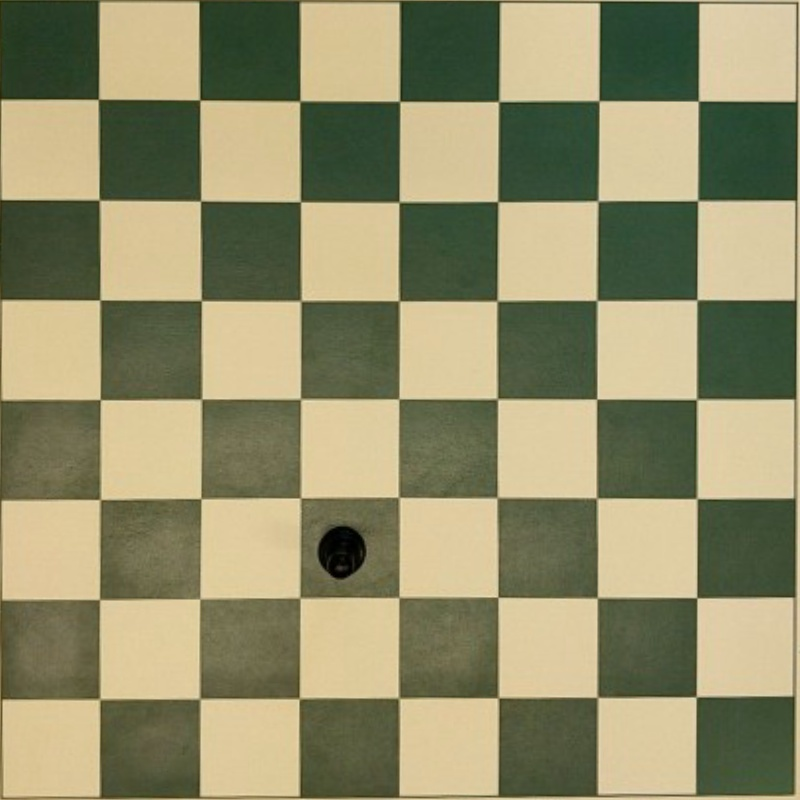black-pawn: (316, 525, 367, 579)
